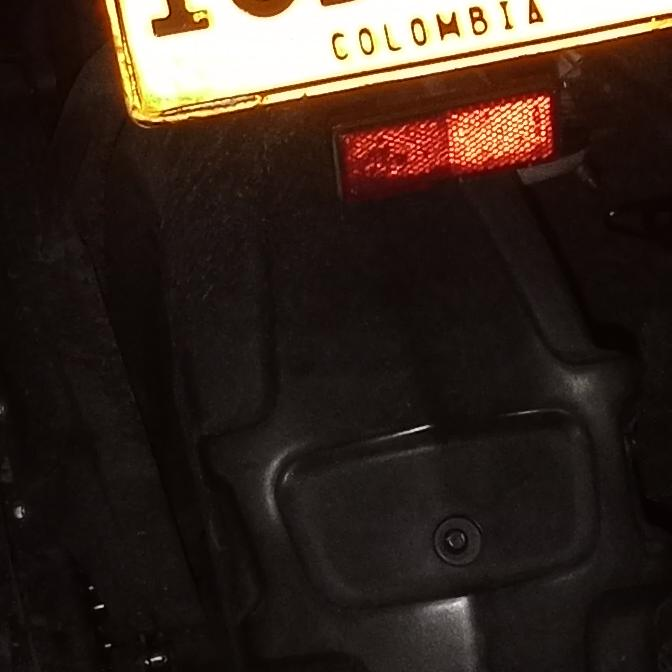plates: (106, 0, 672, 127)
